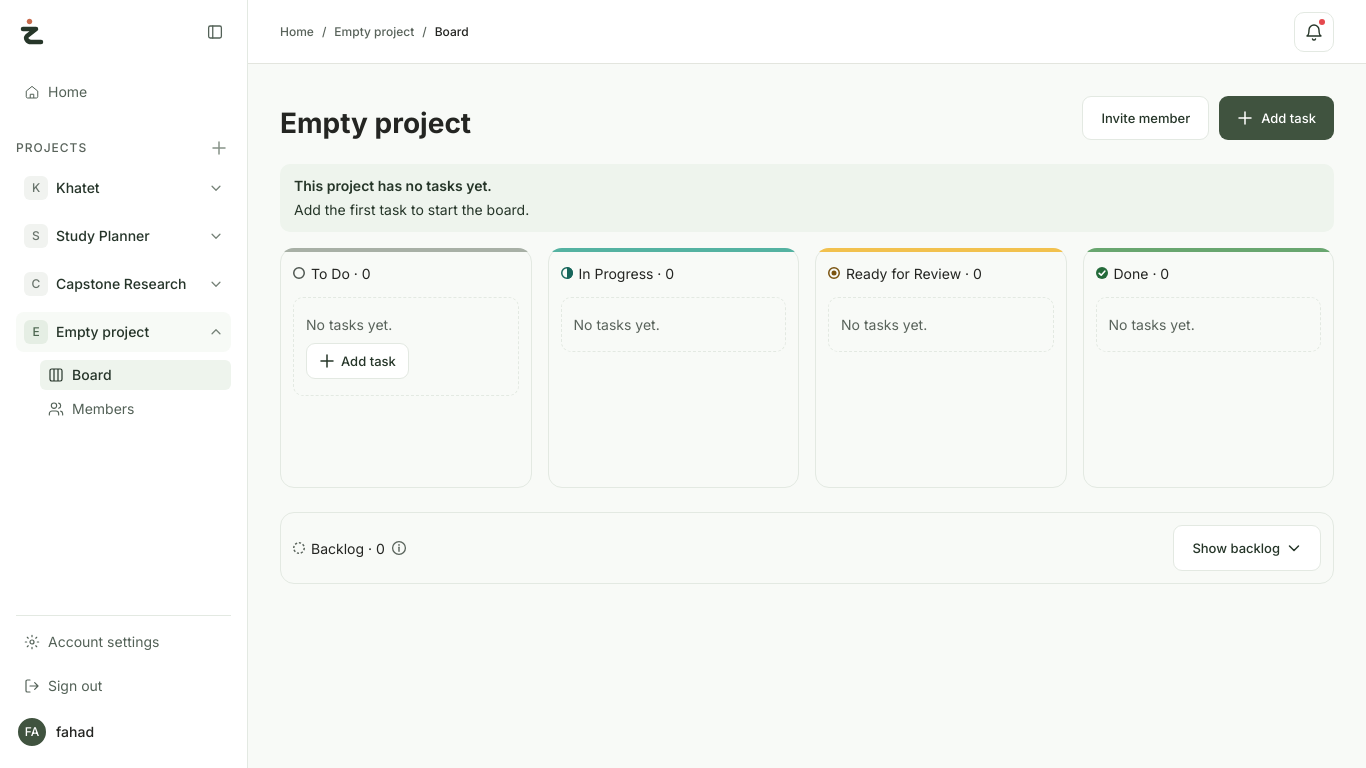
Test: board (US-16, US-21) › shows empty lanes with an Add task action in To Do
The image size is (1366, 768).
Check: the text "This project has no tasks yet." is shown, box x1=294 y1=177 x2=492 y2=194
Check: the text "Add the first task to start the board." is shown, box x1=294 y1=201 x2=529 y2=218
What coordinates should you click on to do the following:
click the button "Add task" below "To Do"
I would click on:
 (357, 361)
Its box is x1=306 y1=343 x2=409 y2=379.
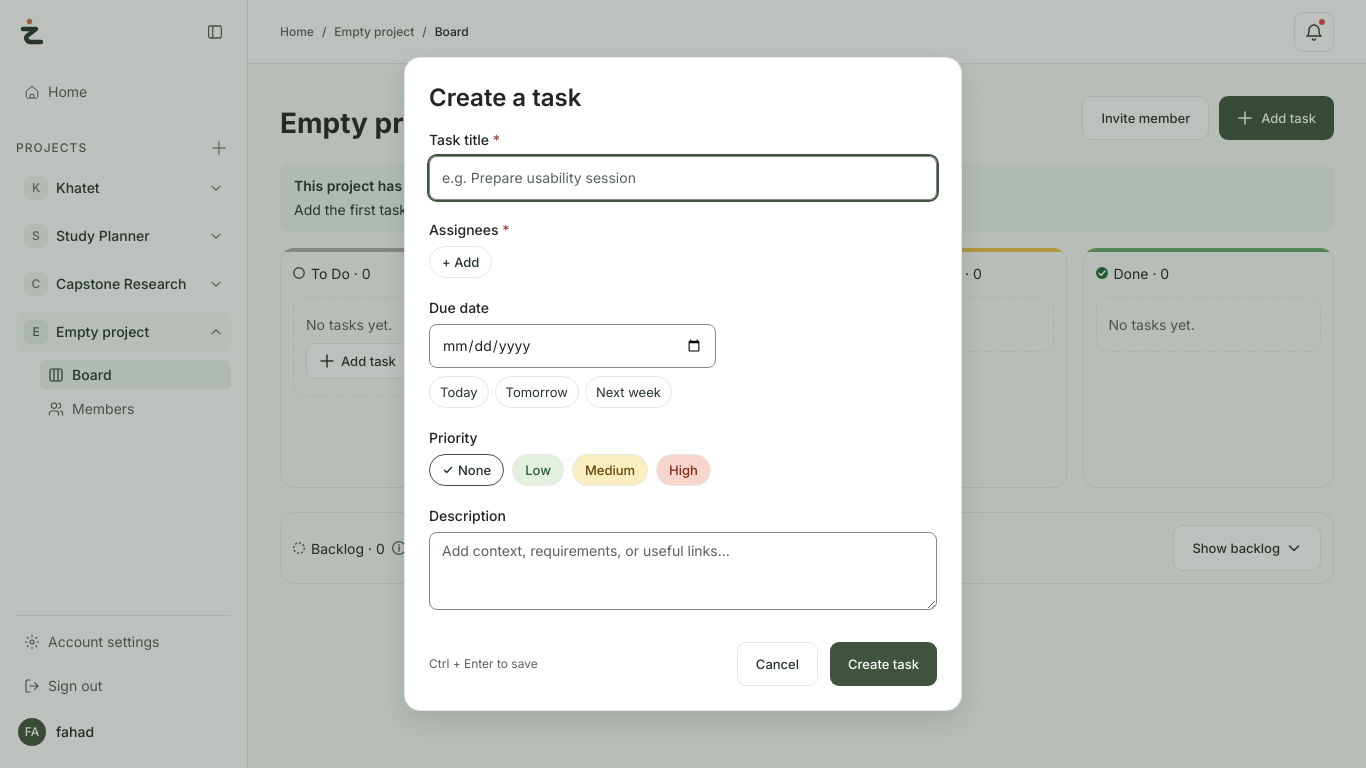
Check: the dialog "Create a task" is shown, box x1=404 y1=57 x2=962 y2=711
